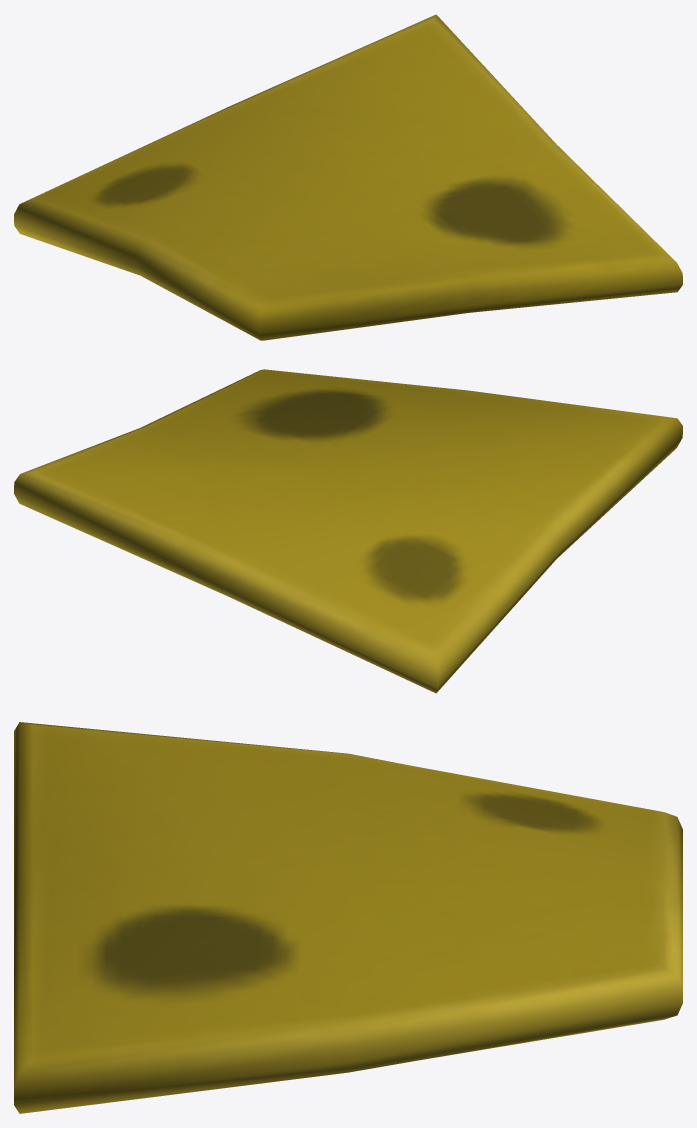
File: MSH_Queso_Rebanada.fbx
3 renders of one model, top to bottom at view 1: azimuth 30°, elevation 25°; view 2: azimuth 150°, elevation 25°; view 3: azimuth 270°, elevation 25°, orthographic. The views are drawn at different scales.
Visible parts, largest first — view 1: MSH_Queso_Rebanada; view 2: MSH_Queso_Rebanada; view 3: MSH_Queso_Rebanada.
Part boxes in pixels (<box>): MSH_Queso_Rebanada: <box>14,14,682,340</box>; MSH_Queso_Rebanada: <box>14,369,682,693</box>; MSH_Queso_Rebanada: <box>14,722,682,1113</box>.
Size of the model in its own units: 13.86 by 13.86 by 3.69.
Materials: 1 (1 with a texture image).
